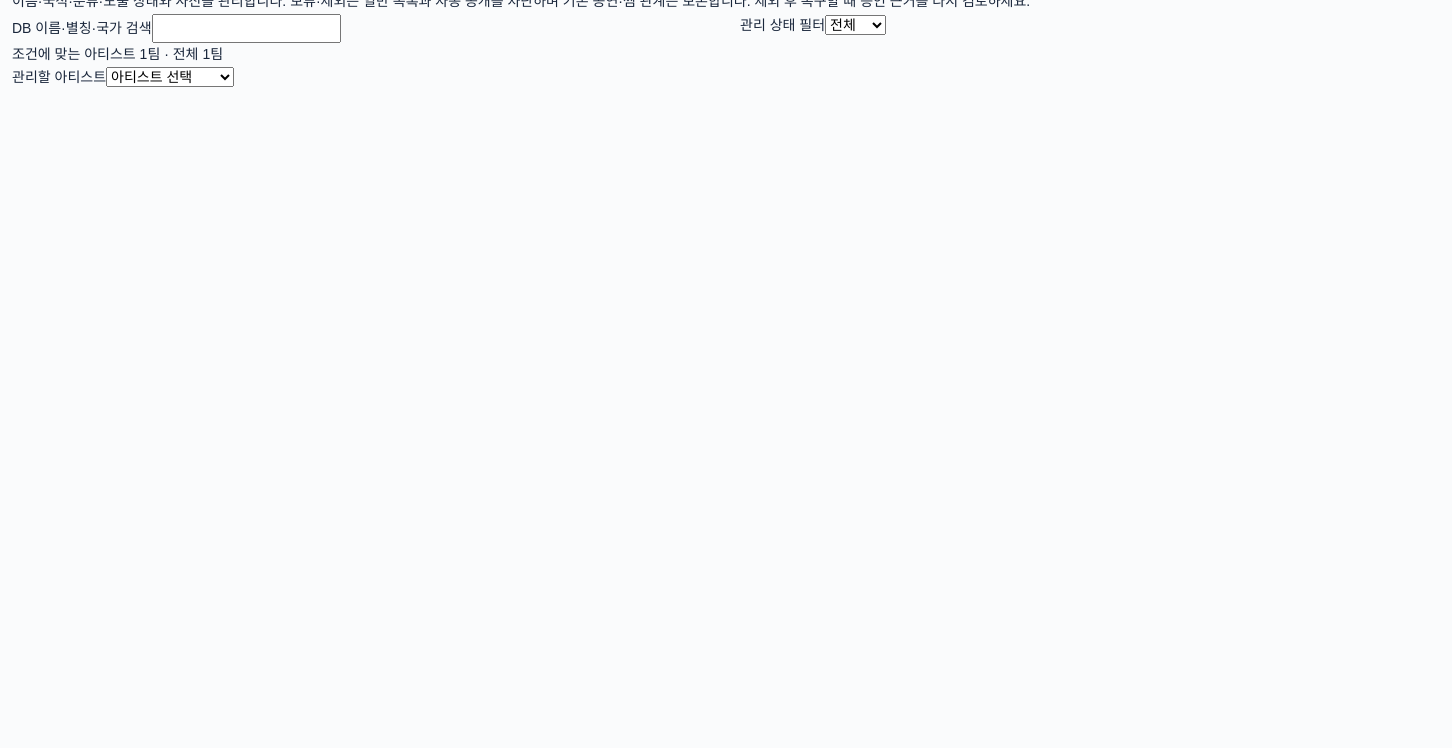
Test: history failure is retryable and shows changed fields with administrator attribution
Select "Ado (JP) · 미검수" in the dropdown labelled "관리할 아티스트" at (170, 77), box x1=106 y1=67 x2=234 y2=87
(page scrolled)
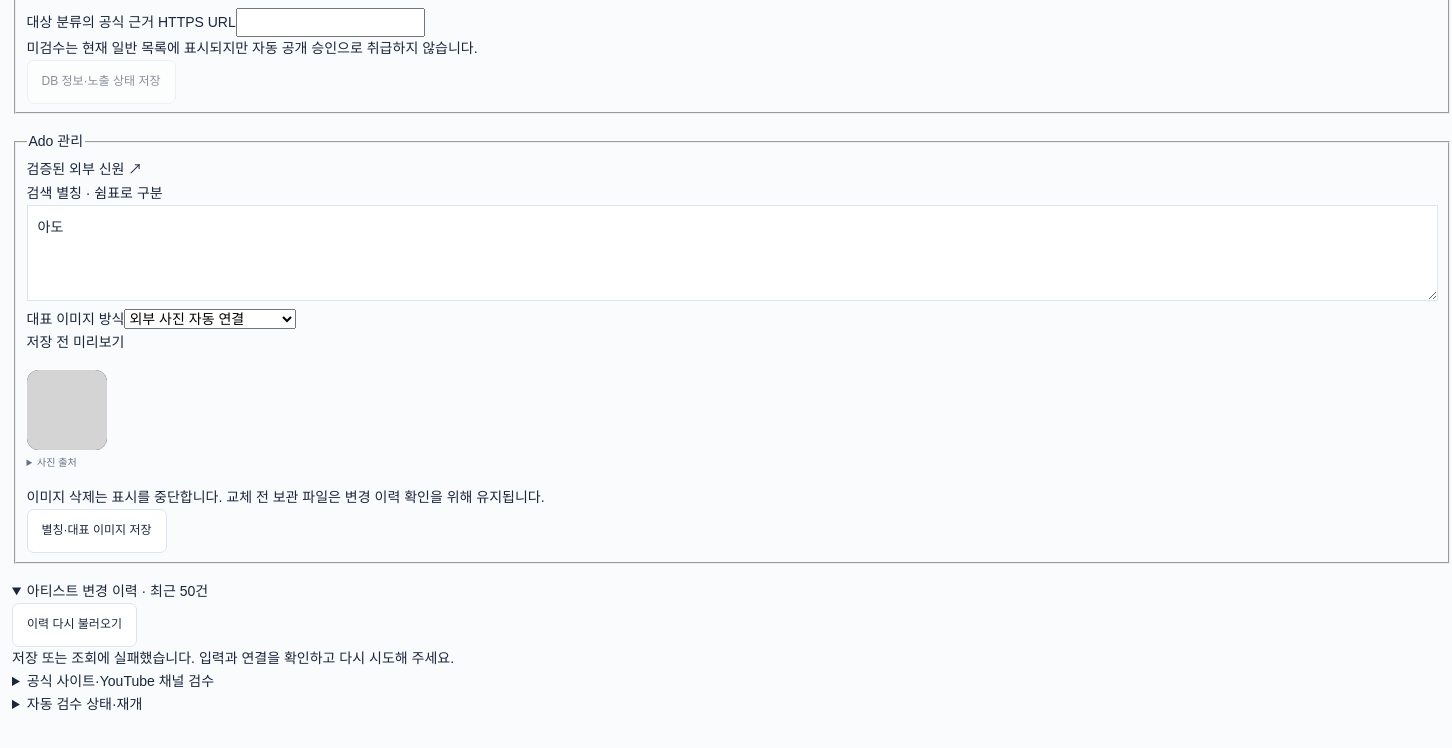
Result: the text "저장 또는 조회에 실패했습니다. 입력과 연결을 확인하고 다시 시도해 주세요." is shown at x1=12 y1=650 x2=454 y2=666
Click the button "이력 다시 불러오기" at (74, 625), box x1=12 y1=603 x2=137 y2=647
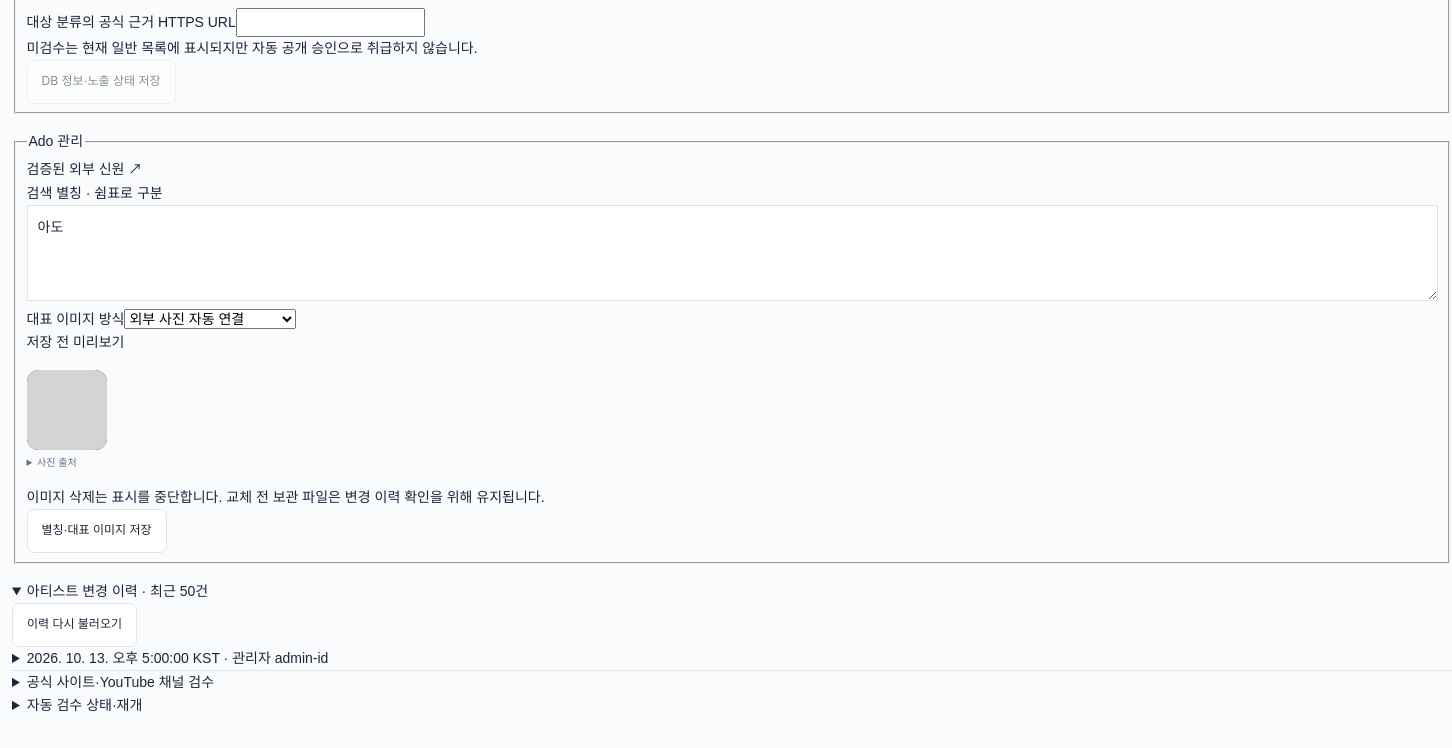
Result: the heading "2026. 10. 13. 오후 5:00:00 KST · 관리자 admin-id" is shown at x1=27 y1=650 x2=328 y2=666
